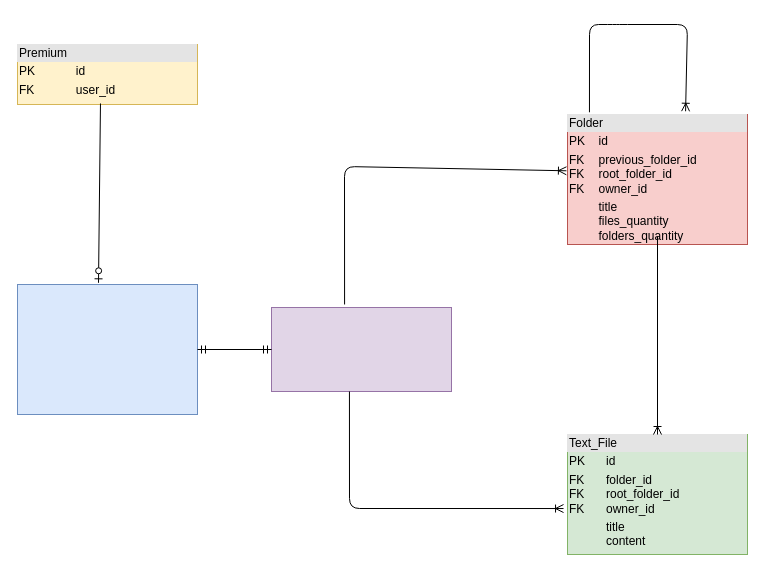
This 765x572 diagram has some shape labels left out. The shapes that lost their labels are listed below. From the top down, each one's centre as x and y in pixels, then its label:
At point 107,349: "User PK id name username password email files_quantity folders_quantity".
At point 361,349: "Root_Folder PK id FK user_id files_quantity folders_quantity".
